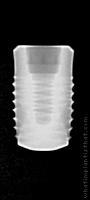Cowellmedi: (13, 45, 75, 153)
